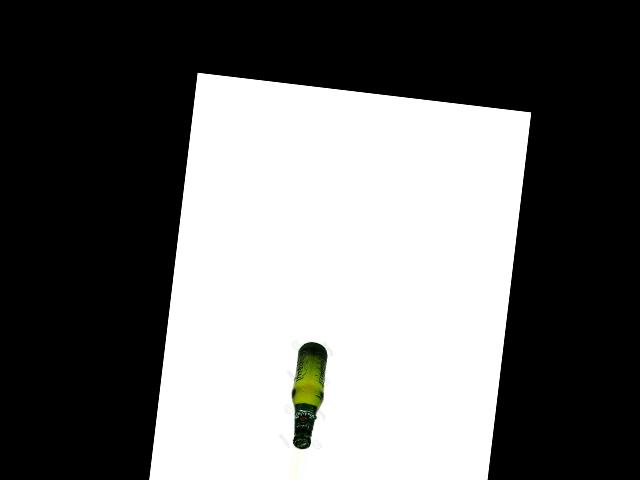beer: (285, 340, 330, 451)
